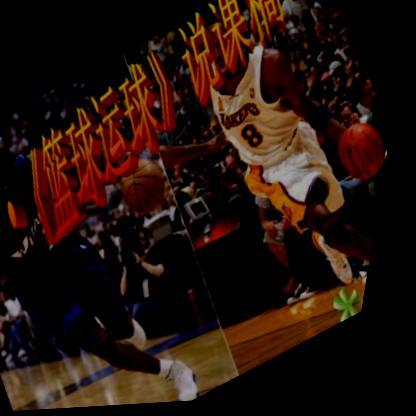basketball: (113, 150, 185, 224), (330, 117, 398, 192)
